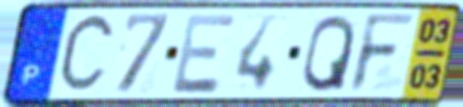4: (233, 13, 279, 94)
7: (114, 12, 174, 97)
C: (54, 9, 119, 99)
E: (170, 12, 240, 96)
F: (346, 11, 419, 95)
Q: (299, 12, 358, 94)
